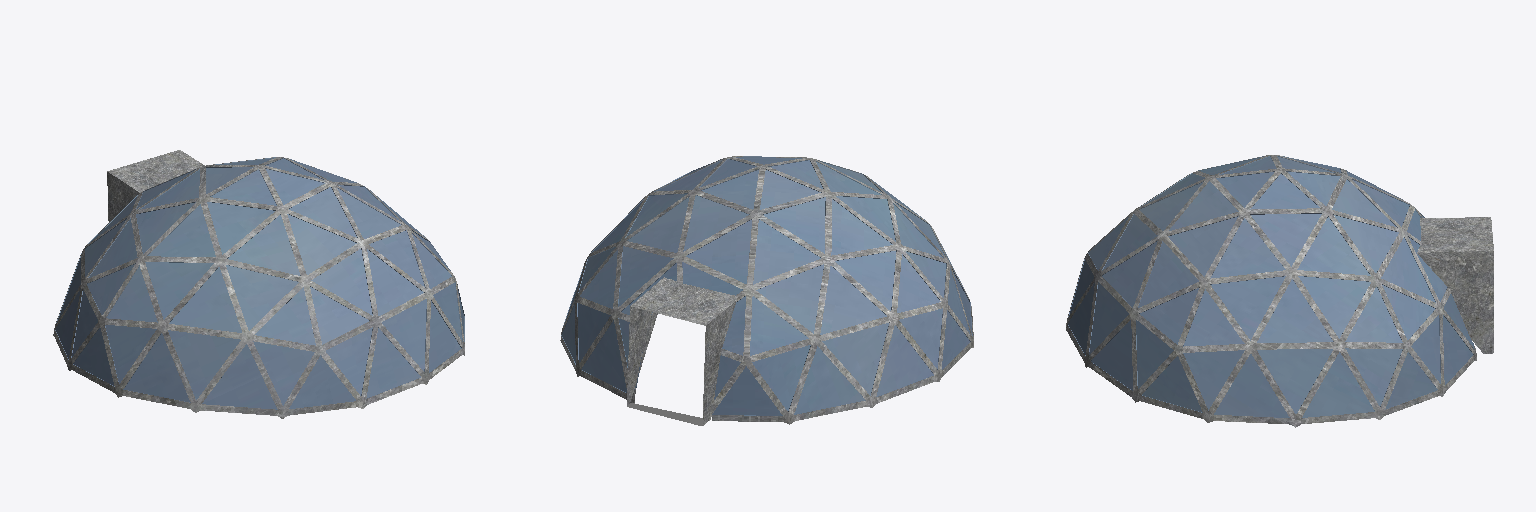
3 renders of one model, left to right at view 1: azimuth 30°, elevation 25°; view 2: azimuth 150°, elevation 25°; view 3: azimuth 270°, elevation 25°, orthographic.
Visible parts, largest first — view 1: pCube5; view 2: pCube5; view 3: pCube5.
Part boxes in pixels (bbox=[...]): pCube5: bbox=[53, 150, 464, 418]; pCube5: bbox=[560, 156, 973, 425]; pCube5: bbox=[1066, 155, 1493, 427].
Size of the model in its own units: 27.22 by 12.79 by 28.22.
Materials: 4 (2 with a texture image).